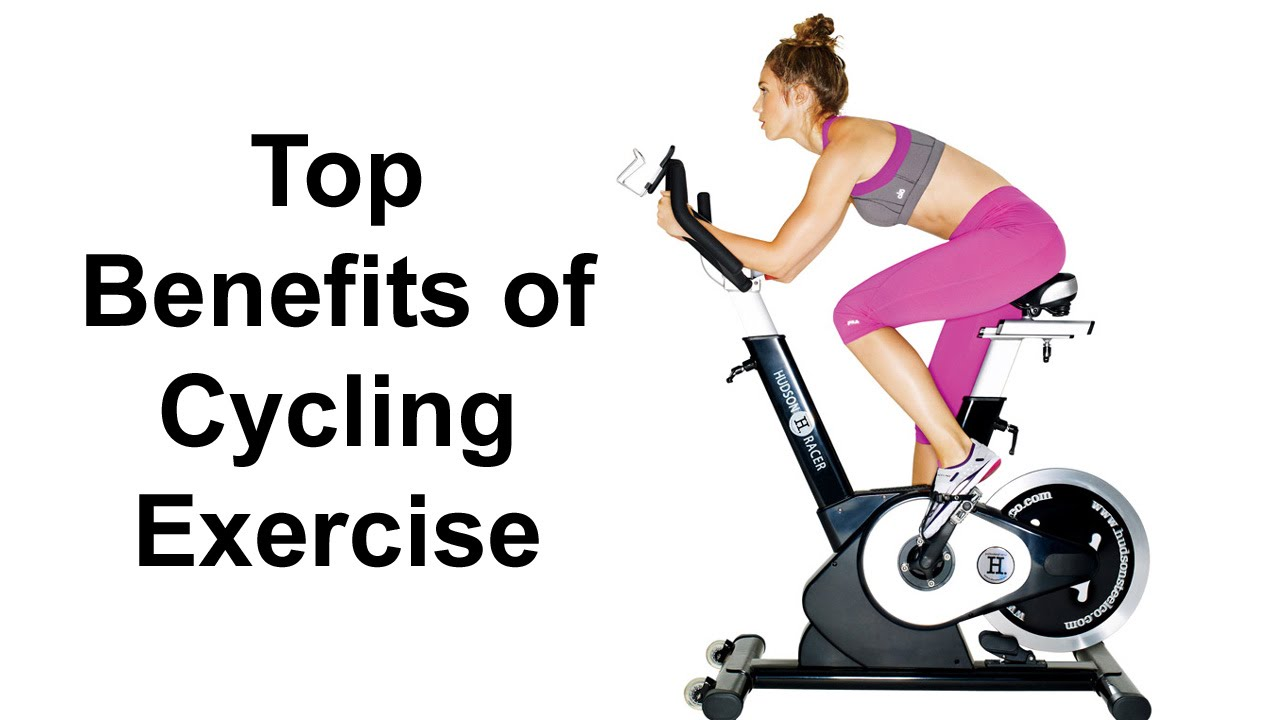gym_bike: (602, 149, 1174, 720)
